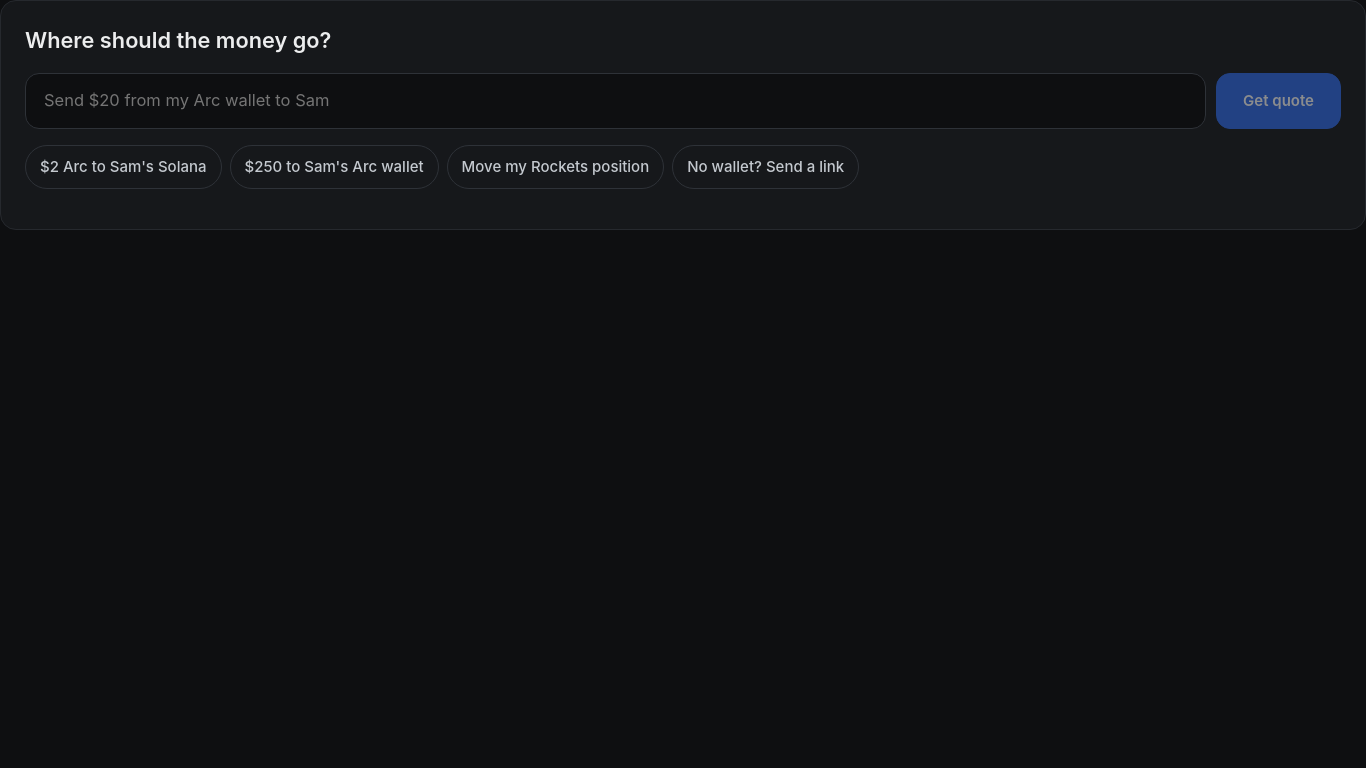
Test: CommandBar › shows the reason code when the vault needs approval
In the field labelled "Where should the money go?": [616, 100] box x1=25 y1=72 x2=1206 y2=128, type "send 250 to sam"
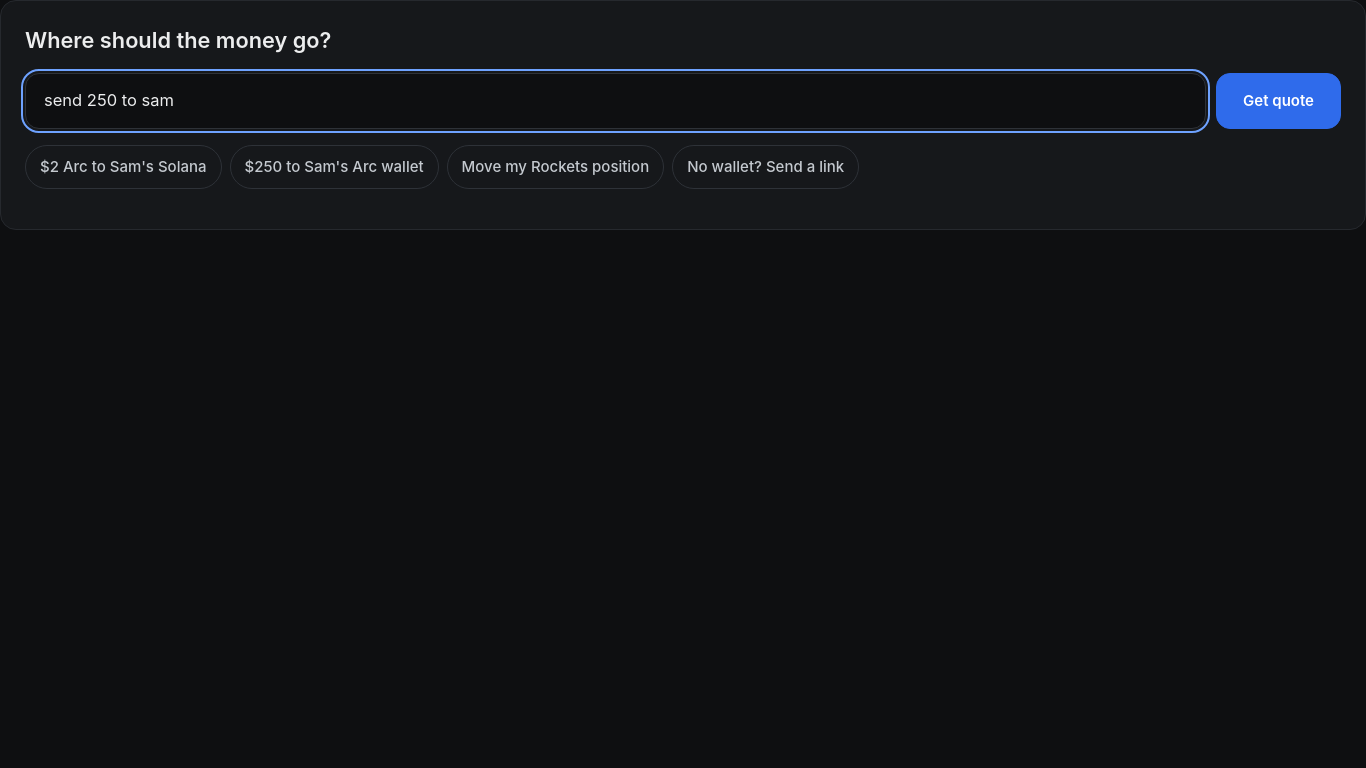
Click the button "Get quote": [1279, 100] box x1=1216 y1=72 x2=1341 y2=128
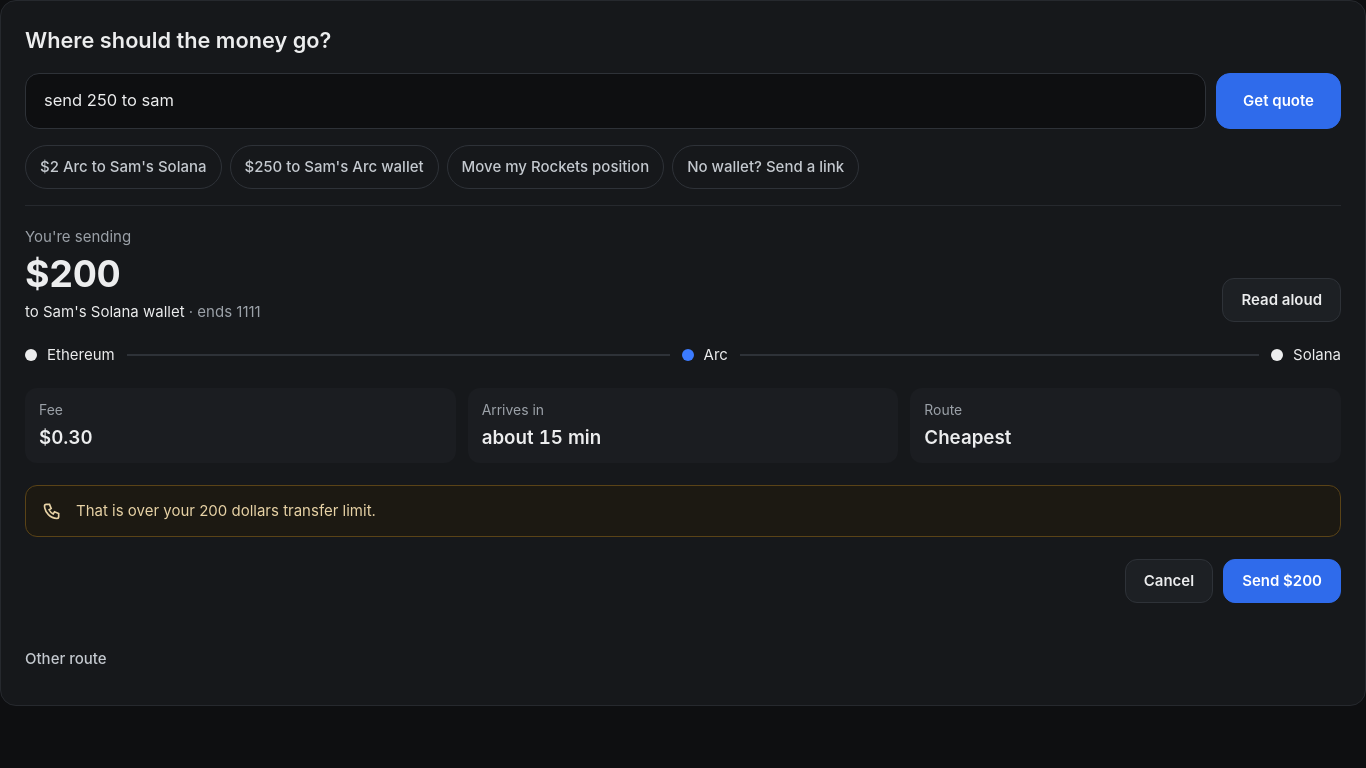
Check: the text "That is over your 200 dollars transfer limit." is shown, box x1=76 y1=501 x2=376 y2=520
Click the button "Send $200": [1282, 581] box x1=1223 y1=559 x2=1341 y2=603
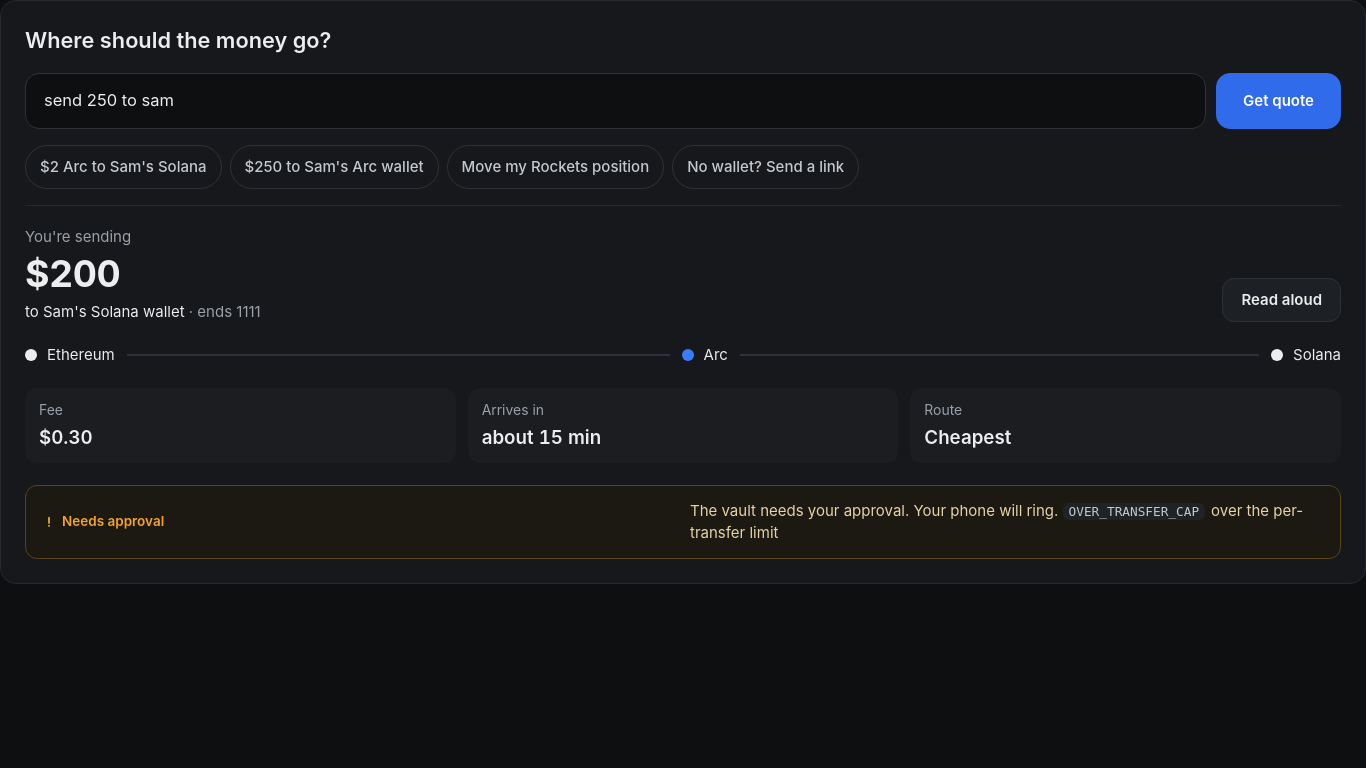
Check: the text "Needs approval" is shown, box x1=62 y1=512 x2=164 y2=532
Check: the text "OVER_TRANSFER_CAP" is shown, box x1=1063 y1=503 x2=1205 y2=520
Check: the text "Your phone will ring" is shown, box x1=690 y1=501 x2=1058 y2=520
